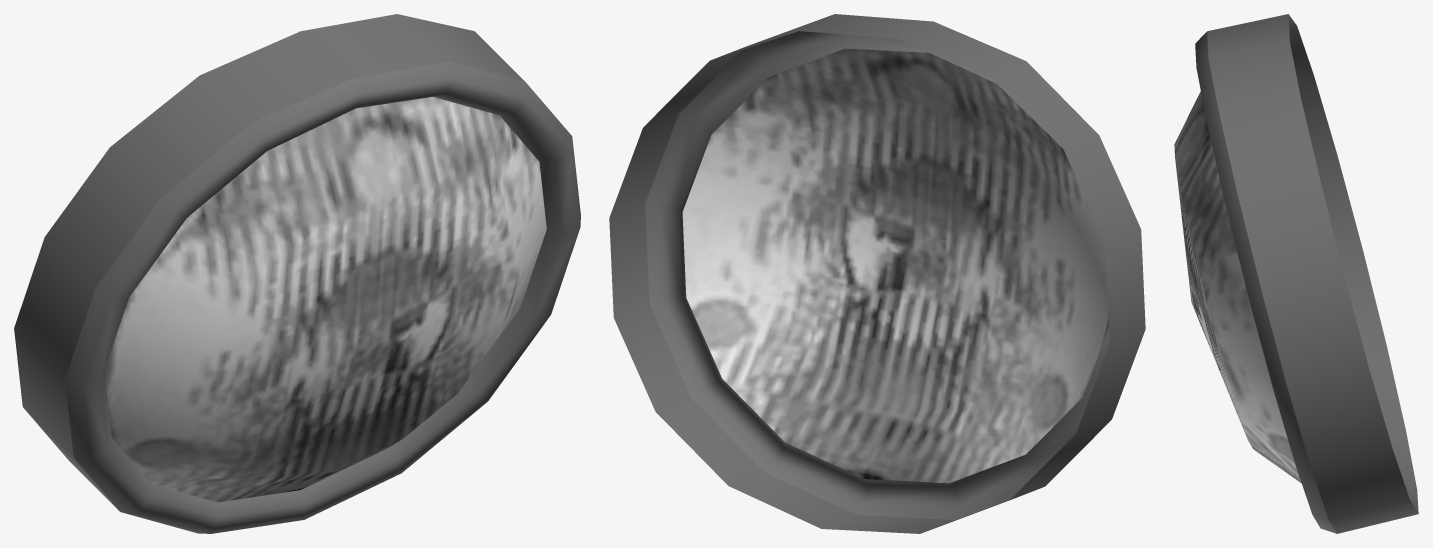
File: Faro.glb
The picture shows the model from 3 angles, left to right: view 1: azimuth 30°, elevation 25°; view 2: azimuth 150°, elevation 25°; view 3: azimuth 270°, elevation 25°; orthographic projection. The views are drawn at different scales.
Visible parts, largest first — view 1: polySurface48.3; view 2: polySurface48.3; view 3: polySurface48.3.
Boxes of the visible parts, x1=… form: polySurface48.3: x1=14, y1=14, x2=580, y2=533; polySurface48.3: x1=609, y1=14, x2=1145, y2=533; polySurface48.3: x1=1174, y1=14, x2=1418, y2=533.
Bounding box in the file's own units: 0.00146 × 0.00132 × 0.000634.
2 materials, 2 textured.
